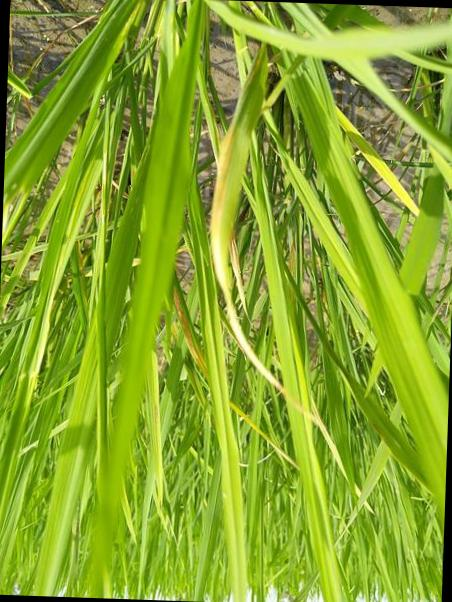Leaf Blight: (211, 51, 301, 404), (175, 289, 208, 376)
